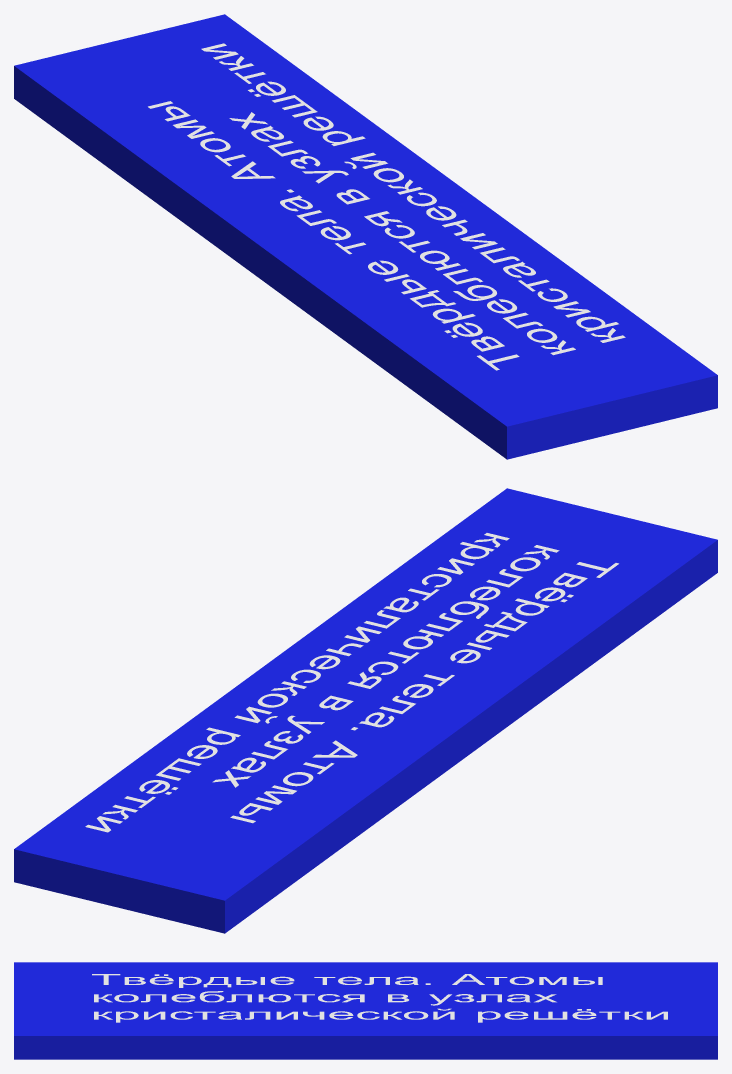
3 views of the same model, one above another, from view 1: azimuth 30°, elevation 25°; view 2: azimuth 150°, elevation 25°; view 3: azimuth 270°, elevation 25° (orthographic). The views are drawn at different scales.
Parts seen in each view (by area): view 1: Box001, Text001; view 2: Box001, Text001; view 3: Box001, Text001.
Part boxes in pixels (left/top/right/bottom): Box001: left=14, top=14, right=717, bottom=459; Text001: left=148, top=43, right=625, bottom=370; Box001: left=14, top=488, right=717, bottom=933; Text001: left=85, top=533, right=618, bottom=832; Box001: left=14, top=962, right=717, bottom=1059; Text001: left=92, top=974, right=667, bottom=1022.
Bounding box in the file's own units: 18.21 × 3.17 × 73.73.
